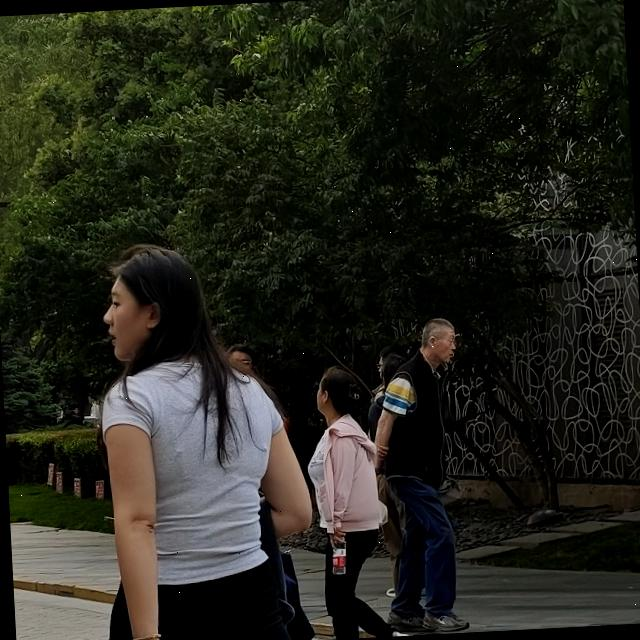curb: (14, 578, 113, 604), (13, 579, 113, 602), (310, 622, 334, 635)
